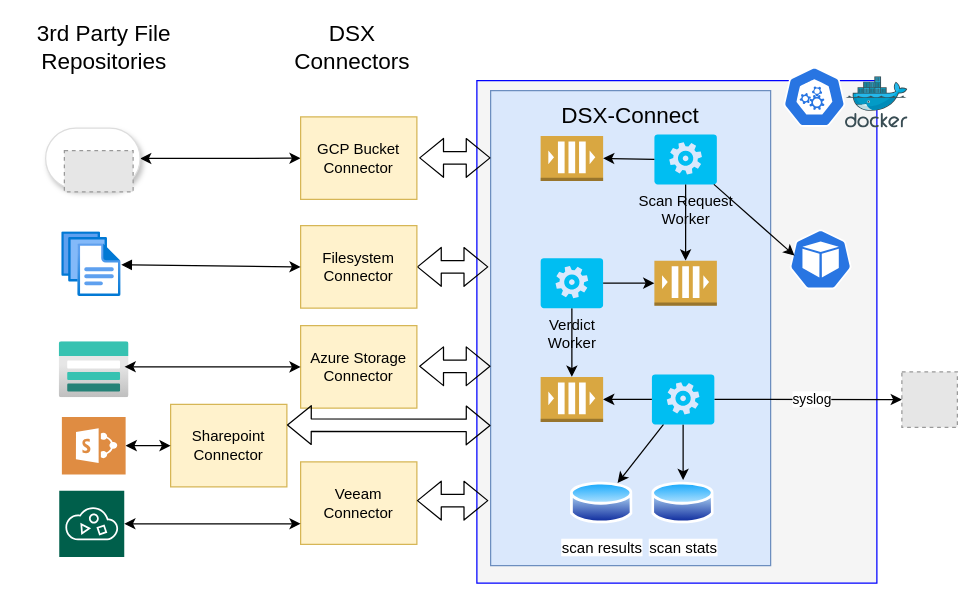
Image size: 979x605. Some labels were removed from this diagram. Grey dashed boxes stand in for pictures. The shapes that lost their labels are listed below. From the top down, each one's centre as x and y in pixels, then its label:
At [571,158]: "Scan Request Queue".
At [820,258]: "DSXA".
At [685,282]: "Verdict Queue".
At [571,399]: "Scan Results Queue".
At [682,399]: "Scan Results Worker (optional)".
